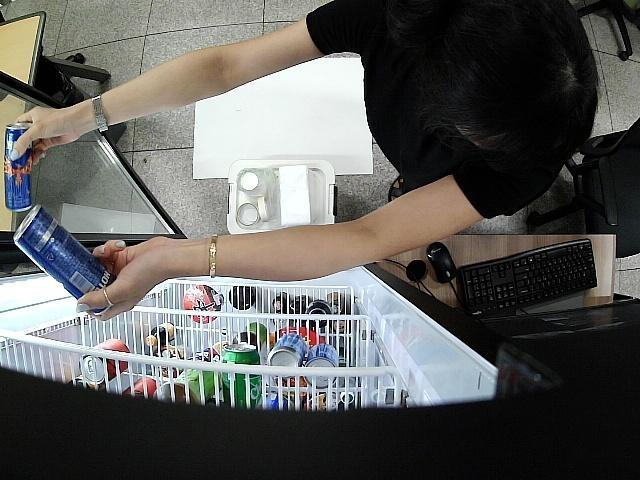16_hot6: (14, 205, 117, 317), (4, 119, 34, 213)
